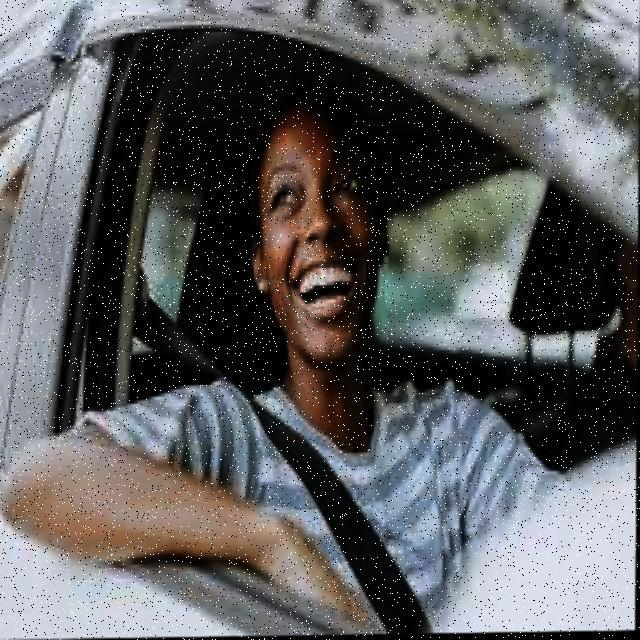seatbelt: (202, 355, 475, 636)
